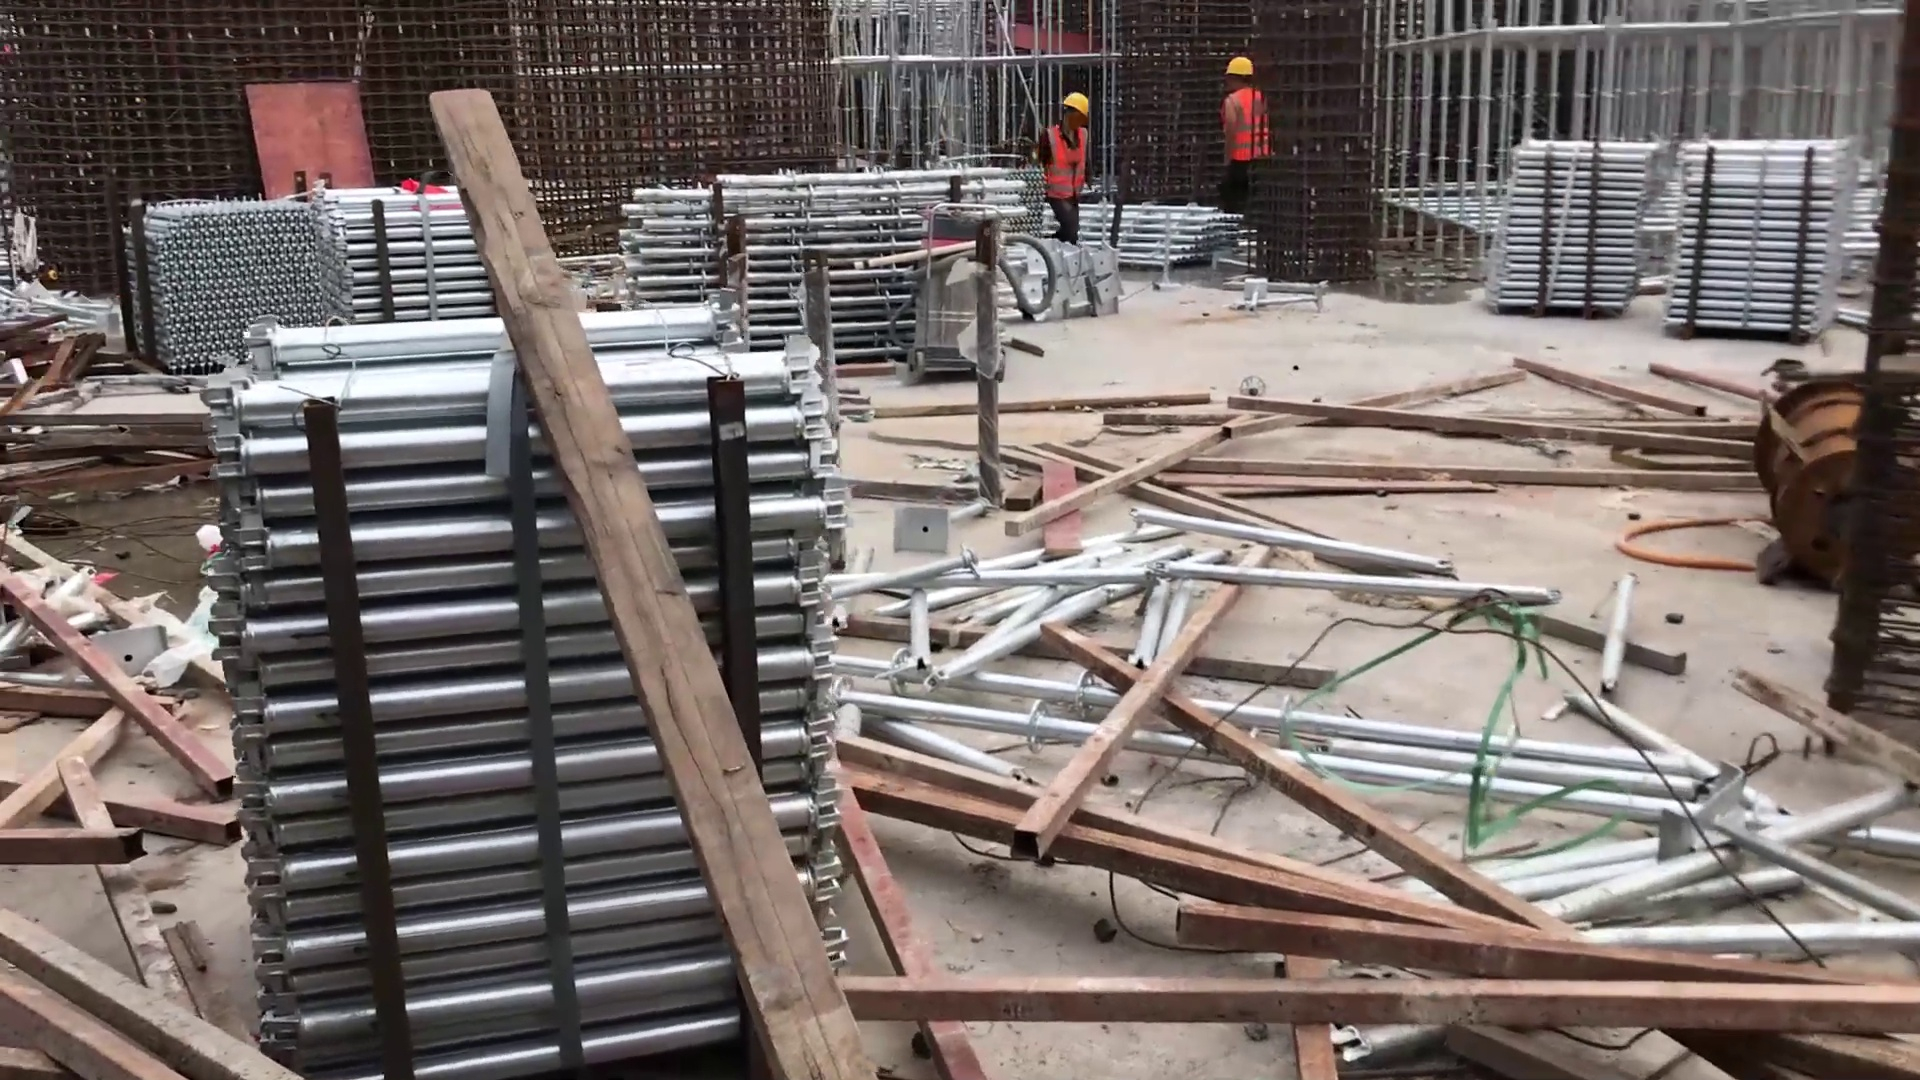helmet: (1058, 86, 1097, 119), (1222, 49, 1259, 82)
person: (1209, 50, 1275, 201), (1040, 85, 1088, 234)
scaffold: (220, 337, 848, 1056), (627, 177, 1045, 328), (1664, 138, 1845, 341), (125, 193, 330, 362), (327, 180, 514, 333), (1503, 133, 1647, 321), (1089, 202, 1227, 283)
vest: (1038, 124, 1097, 217), (1223, 87, 1276, 163)
